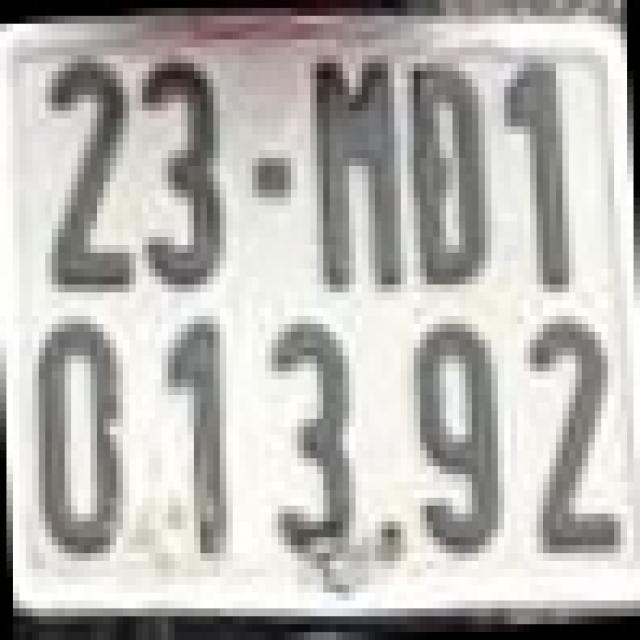0: (32, 316, 130, 561)
1: (498, 55, 582, 292), (162, 316, 232, 553)
2: (524, 308, 634, 553), (45, 55, 136, 292)
3: (265, 316, 356, 553), (142, 63, 226, 284)
9: (408, 316, 504, 553)
D: (408, 63, 492, 284)
M: (307, 44, 404, 288)
